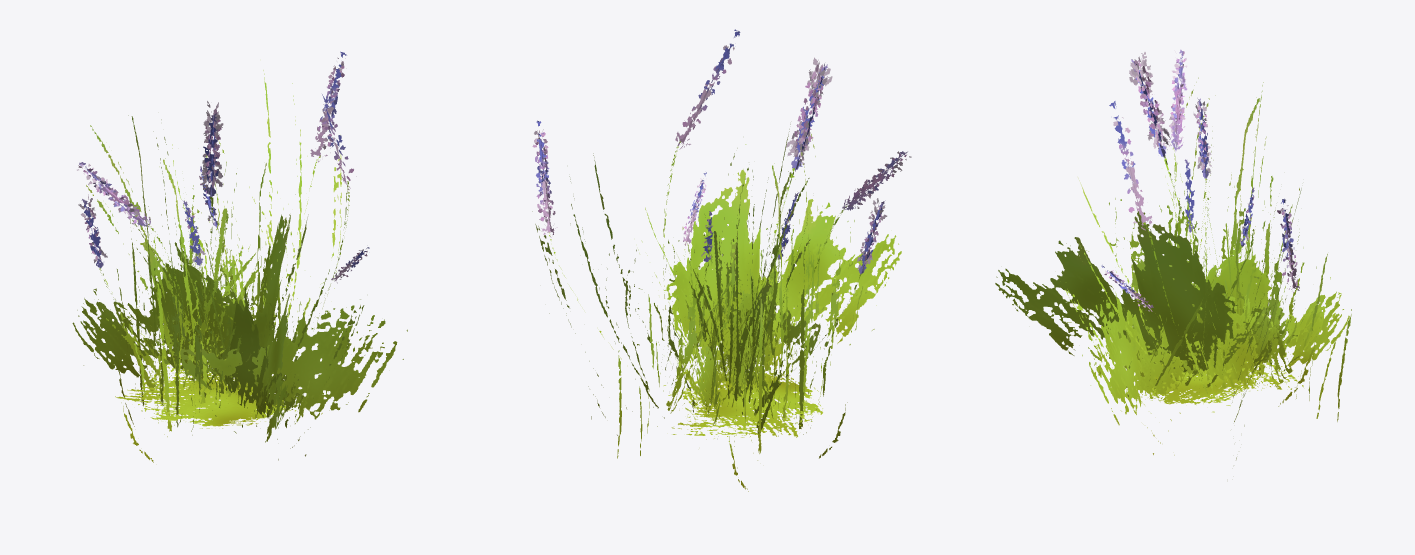
The model's file is grass45.fbx.
3 renders of one model, left to right at view 1: azimuth 30°, elevation 25°; view 2: azimuth 150°, elevation 25°; view 3: azimuth 270°, elevation 25°, orthographic. The views are drawn at different scales.
Visible parts, largest first — view 1: Lavander4_BAKED; view 2: Lavander4_BAKED; view 3: Lavander4_BAKED.
Boxes of the visible parts, x1=… form: Lavander4_BAKED: x1=72, y1=51, x2=407, y2=462; Lavander4_BAKED: x1=532, y1=29, x2=911, y2=491; Lavander4_BAKED: x1=995, y1=49, x2=1351, y2=459.
Bounding box in the file's own units: 84.91 × 75.9 × 89.
